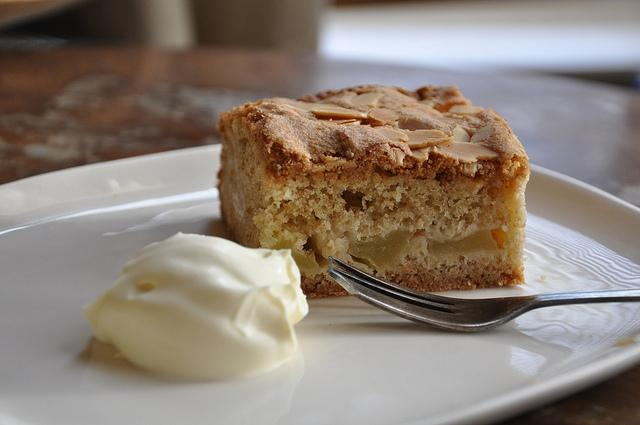apple: (349, 232, 412, 272), (428, 229, 497, 261), (271, 241, 324, 277)
